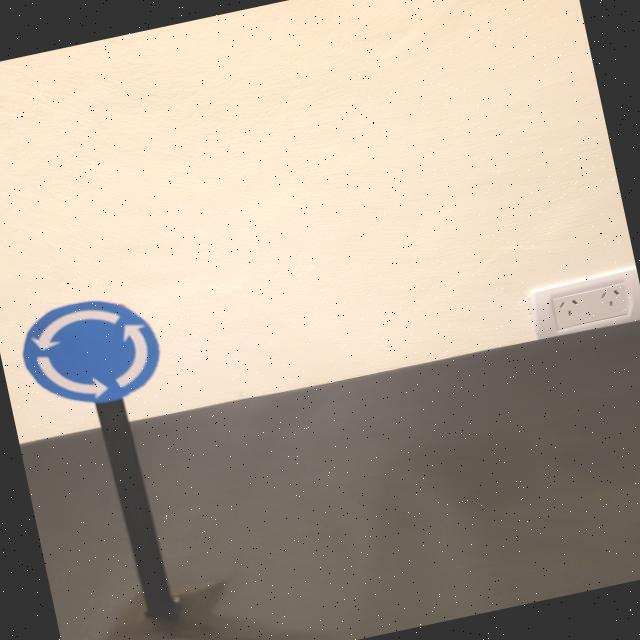round_about: (12, 287, 170, 418)
